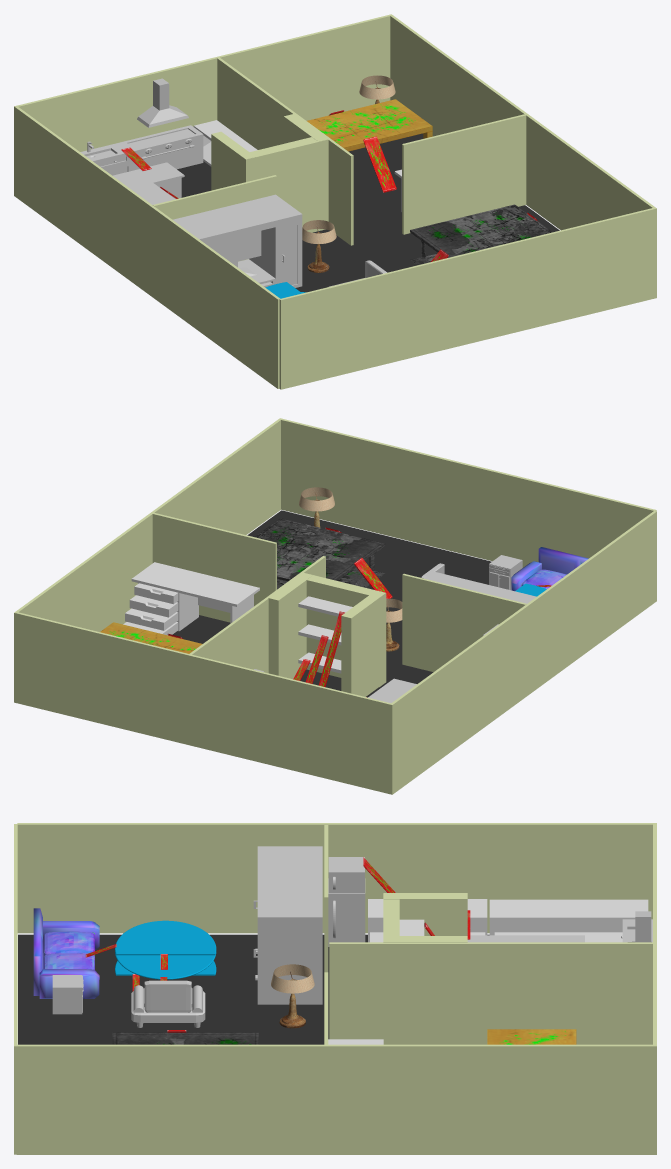
Rendered from LevelRework.fbx.
3 views of the same model, one above another, from view 1: azimuth 30°, elevation 25°; view 2: azimuth 150°, elevation 25°; view 3: azimuth 270°, elevation 25° (orthographic). The views are drawn at different scales.
Parts seen in each view (by area): view 1: Wall 6, Wall 1, Wall 2, Wall 7, Wall 5, Plane, TV Stand, Wall 4, Wall 8, Middle Table, Far Table, Stove+Sink (+9 smaller); view 2: Wall 2, Wall 6, Wall 1, Wall 7, Plane, Wall 3, Wall 5, Desk, Middle Table, Pantry Wall, Wall 4, Wall 9 (+10 smaller); view 3: Wall 7, Wall 1, Wall 4, Plane, TV Stand, Counter 1, Layered Table, Couch, Fridge, ArmChair, Pantry Wall, Middle Table (+11 smaller).
Part boxes in pixels (x1,y1,x2,y2): Wall 6: (279,207,656,389); Wall 1: (14,106,279,388); Wall 2: (16,14,392,151); Wall 7: (390,15,655,230); Wall 5: (402,114,526,234); Plane: (177,133,559,292); TV Stand: (173,194,302,287); Wall 4: (217,57,353,245); Wall 8: (246,137,328,232); Middle Table: (410,204,552,264); Far Table: (307,99,432,151); Stove+Sink: (80,125,203,175); Wall 2: (15,612,391,794); Wall 6: (279,418,656,567); Wall 1: (390,511,656,794); Wall 7: (14,419,280,702); Plane: (172,510,491,697); Wall 3: (402,573,526,672); Wall 5: (152,512,276,622); Desk: (123,562,259,635); Middle Table: (254,518,385,589); Pantry Wall: (341,590,385,696); Wall 4: (189,556,325,673); Wall 9: (268,572,312,679); Wall 7: (16,1044,656,1154); Wall 1: (17,823,656,933); Wall 4: (329,942,653,1044); Plane: (18,934,489,1044); TV Stand: (253,846,322,1004); Counter 1: (489,899,648,942); Layered Table: (115,920,216,980); Couch: (33,908,99,998); Fridge: (328,857,365,946); ArmChair: (131,980,205,1027); Pantry Wall: (383,893,467,935); Middle Table: (112,1032,258,1044).
Size of the model in its own units: 2960 by 678 by 3603.
